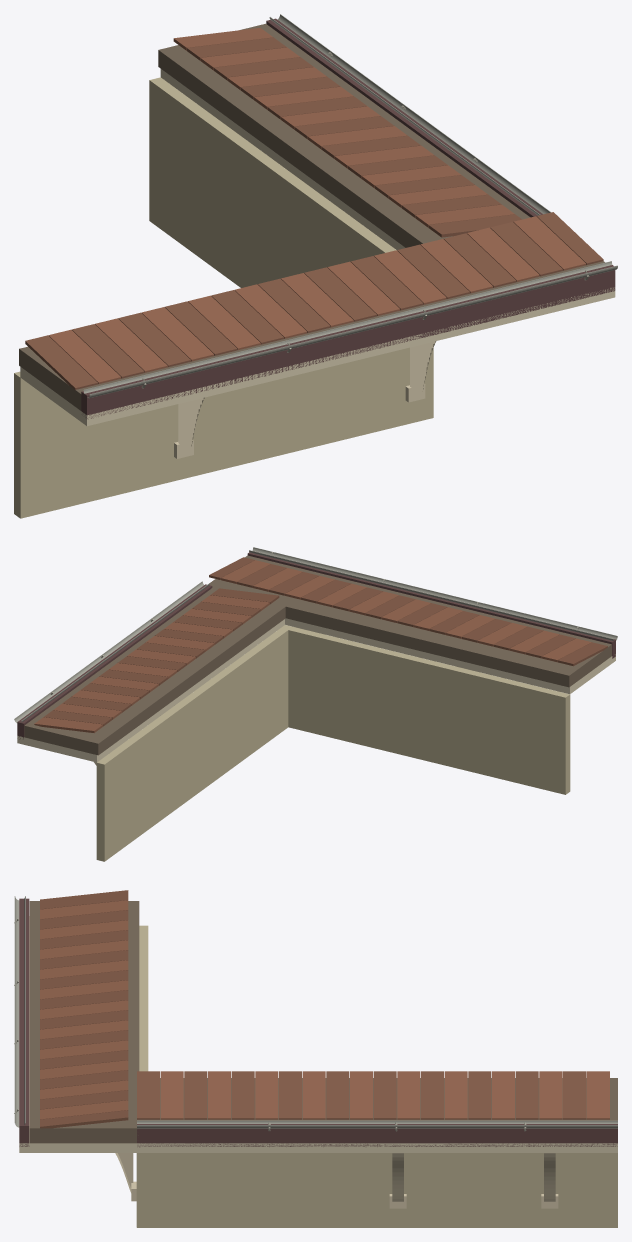
File: changning-wuyi-100-garden-eaves-brackets-web.glb
3 renders of one model, top to bottom at view 1: azimuth 30°, elevation 25°; view 2: azimuth 150°, elevation 25°; view 3: azimuth 270°, elevation 25°, orthographic. The views are drawn at different scales.
Parts seen in each view (by area): view 1: 武夷路100号花园住宅转角挑檐、曲线檐托与通气口; view 2: 武夷路100号花园住宅转角挑檐、曲线檐托与通气口; view 3: 武夷路100号花园住宅转角挑檐、曲线檐托与通气口.
Boxes of the visible parts, bbox=[...] form: 武夷路100号花园住宅转角挑檐、曲线檐托与通气口: bbox=[14, 14, 617, 518]; 武夷路100号花园住宅转角挑檐、曲线檐托与通气口: bbox=[14, 547, 617, 861]; 武夷路100号花园住宅转角挑檐、曲线檐托与通气口: bbox=[14, 890, 617, 1227].
Bounding box in the file's own units: 2.87 × 0.932 × 3.19.
